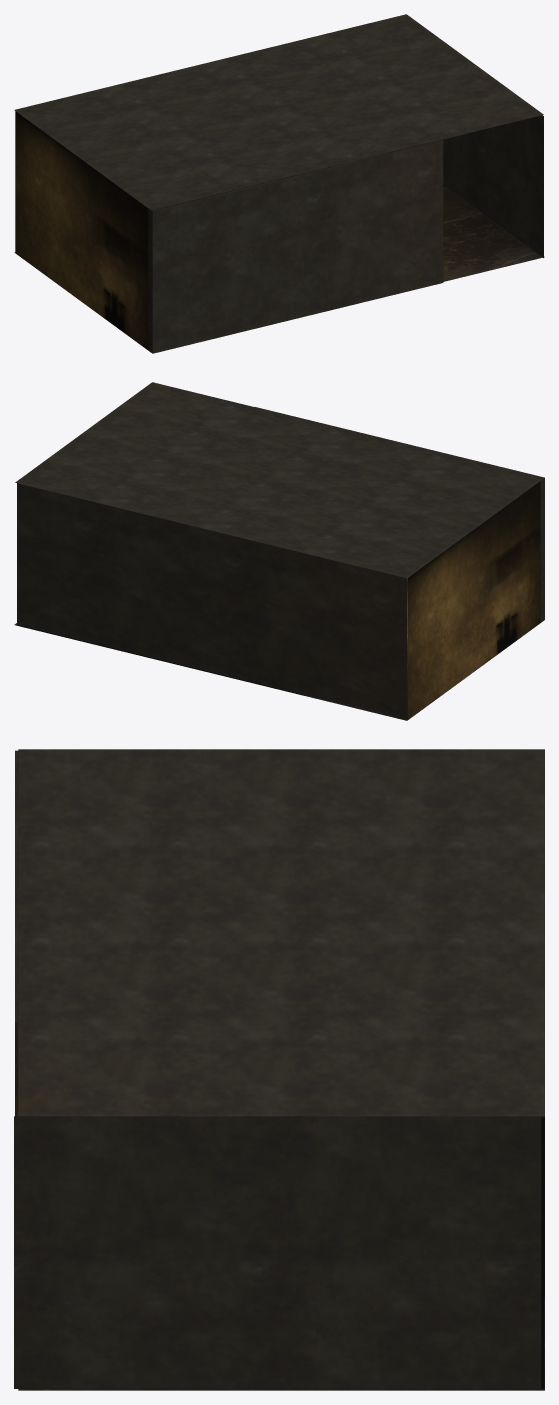
File: kitchen_animate.glb
3 renders of one model, top to bottom at view 1: azimuth 30°, elevation 25°; view 2: azimuth 150°, elevation 25°; view 3: azimuth 270°, elevation 25°, orthographic. The views are drawn at different scales.
Visible parts, largest first — view 1: Plane.028, Plane.029, Plane.012, Plane.011, Plane.027; view 2: Plane.011, Plane.028, Plane.012, Plane.029, Plane.027; view 3: Plane.028, Plane.011, Plane.027, Plane.029.
Boxes of the visible parts, x1,y1,x2,y2 form: Plane.028: (14, 14, 543, 210); Plane.029: (148, 139, 443, 353); Plane.012: (15, 111, 148, 349); Plane.011: (442, 115, 543, 257); Plane.027: (14, 185, 544, 352); Plane.011: (17, 483, 406, 719); Plane.028: (15, 382, 543, 578); Plane.012: (407, 481, 540, 719); Plane.029: (255, 407, 544, 622); Plane.027: (14, 590, 543, 720); Plane.028: (18, 749, 544, 1116); Plane.011: (14, 1116, 541, 1388); Plane.027: (18, 1116, 544, 1390); Plane.029: (15, 750, 18, 1116).
Bounding box in the file's own units: 15.2 × 5.27 × 9.27.
101 materials, 53 textured.
